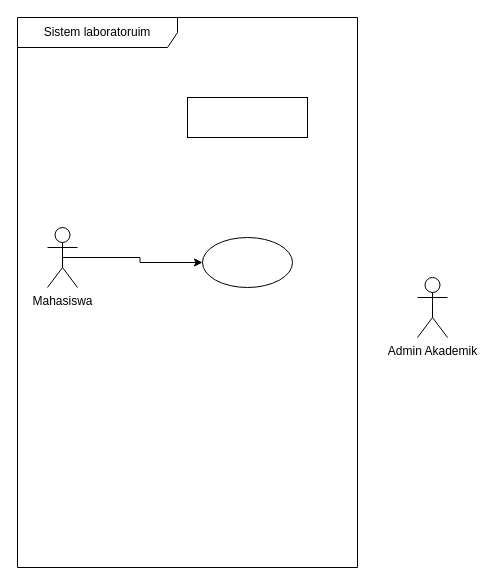
Image size: 494x585. Some labels were removed from this diagram. Here are the shapes that lost their labels. From the top down, the centre of each, then its label:
the point at 247,117: Lihat Jadwal Kuliah
the point at 247,262: Kelola jadwal kuliah
